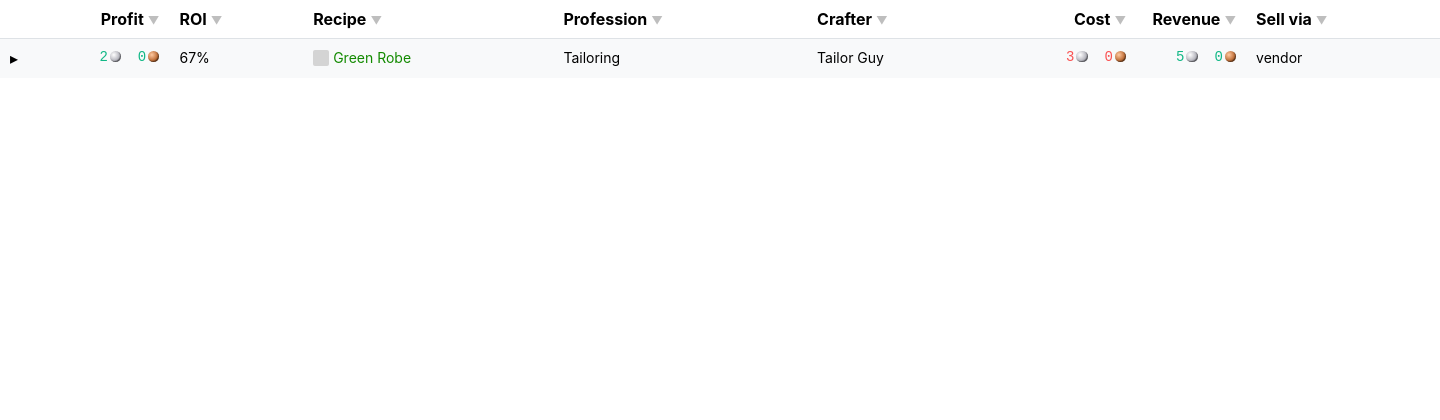
Test: ResultsTable › puts the character on its own line in flow chart nodes
The width and height of the screenshot is (1440, 420).
Click the button named "Details for Green Robe" at (14, 58), box [10, 46, 18, 71]
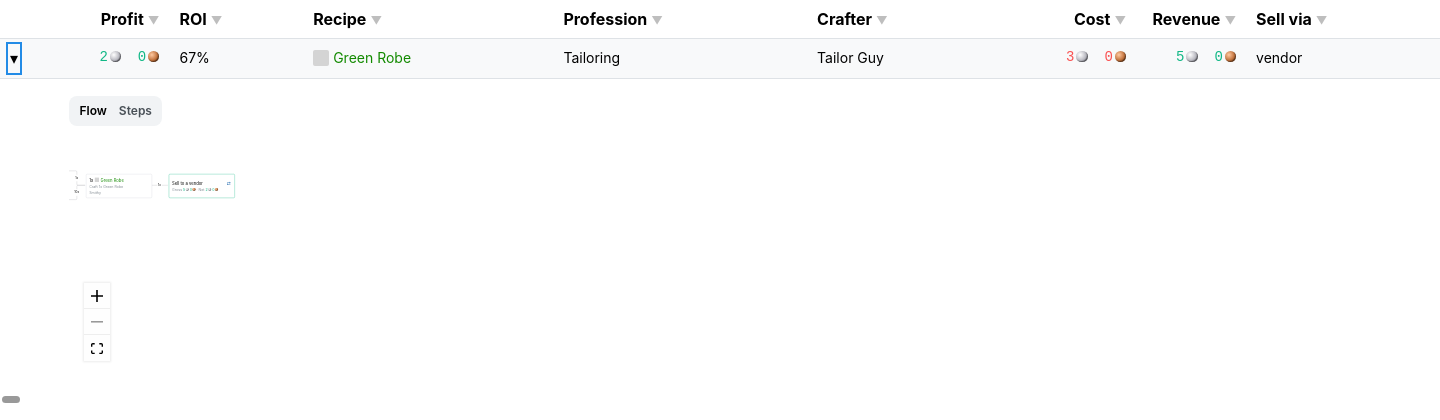
Now the text "Craft 1x Green Robe" is shown, box [90, 184, 124, 189]
Now the text "Smithy" is shown, box [90, 190, 101, 195]
